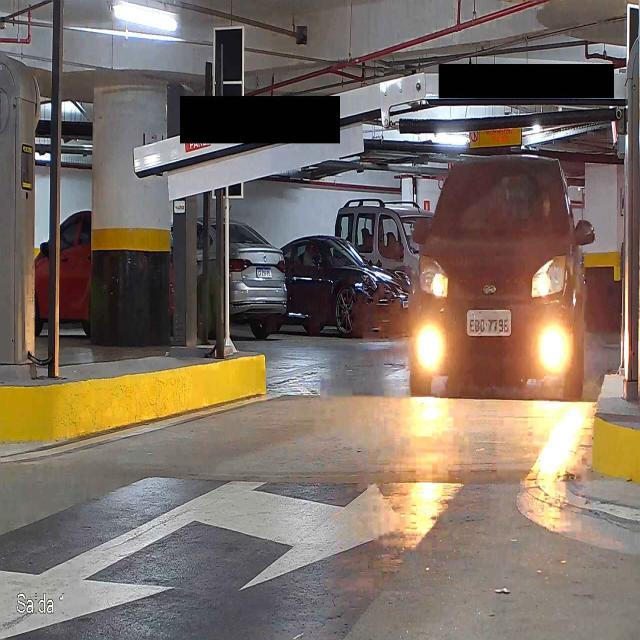old_plate: (465, 308, 513, 338)
